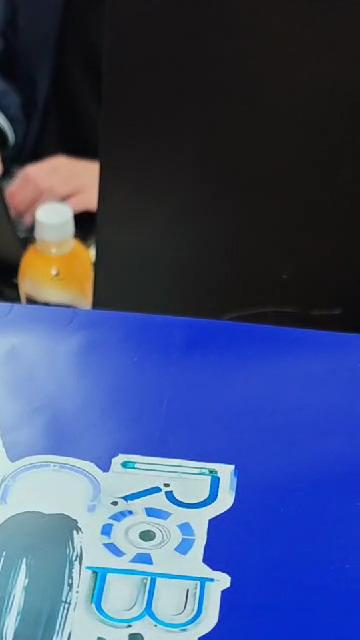B_R1: (0, 324, 282, 640)
